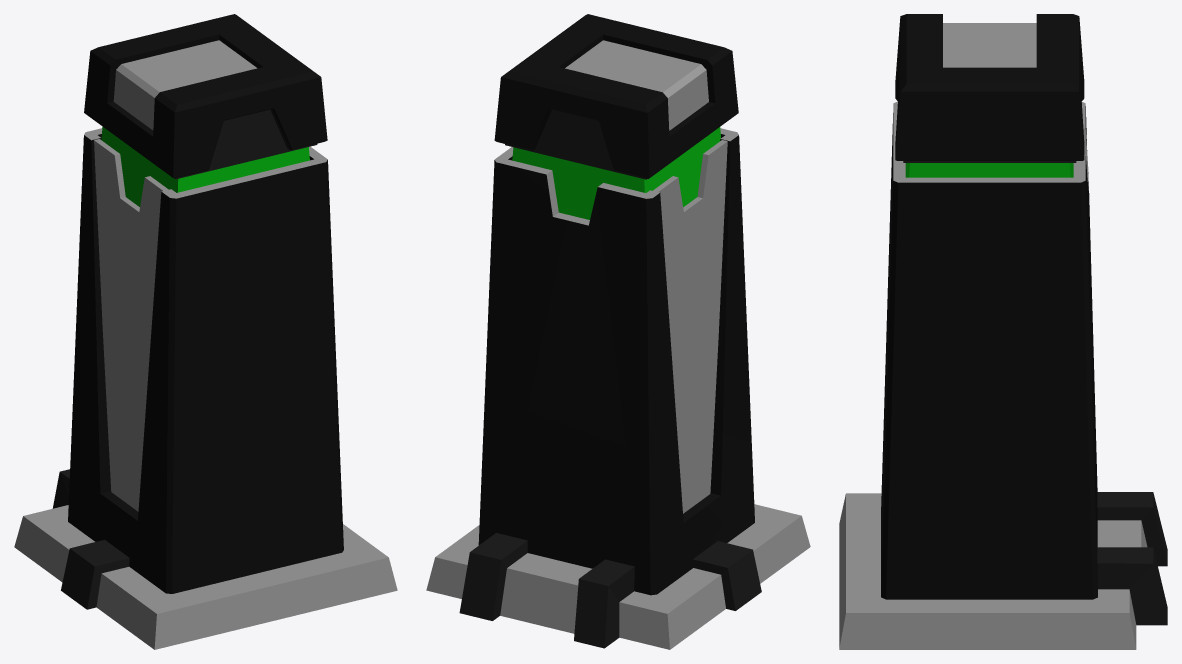
The model's file is Tower.FBX.
3 renders of one model, left to right at view 1: azimuth 30°, elevation 25°; view 2: azimuth 150°, elevation 25°; view 3: azimuth 270°, elevation 25°, orthographic. The views are drawn at different scales.
Parts seen in each view (by area): view 1: Box013, Tower, Box020, Box017; view 2: Box013, Tower, Box020, Box017; view 3: Box013, Tower, Box020.
Boxes of the visible parts, x1,y1,x2,y2 form: Box013: (68,128,343,593); Tower: (84,14,327,206); Box020: (14,469,397,649); Box017: (94,139,168,511); Box013: (478,128,754,595); Tower: (494,14,738,219); Box020: (426,504,810,649); Box017: (653,140,727,513); Box013: (881,101,1097,599); Tower: (895,14,1084,177); Box020: (839,492,1167,649).
Size of the model in its own units: 44.74 by 47.62 by 86.1.
